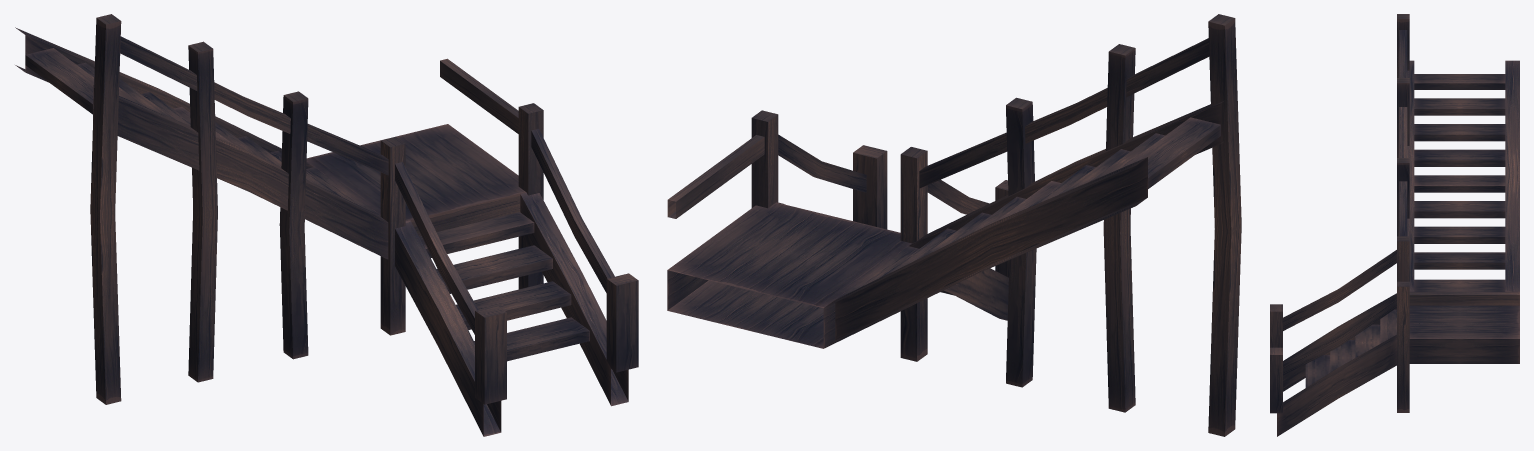
The model's file is Stairs_B.fbx.
3 views of the same model, side by side, from view 1: azimuth 30°, elevation 25°; view 2: azimuth 150°, elevation 25°; view 3: azimuth 270°, elevation 25° (orthographic). The views are drawn at different scales.
Parts seen in each view (by area): view 1: Stairs_B; view 2: Stairs_B; view 3: Stairs_B.
Part boxes in pixels (x1,y1,x2,y2): Stairs_B: (15,14,638,436); Stairs_B: (667,14,1241,436); Stairs_B: (1270,14,1519,436).
Bounding box in the file's own units: 0.963 × 0.8656 × 0.698.
